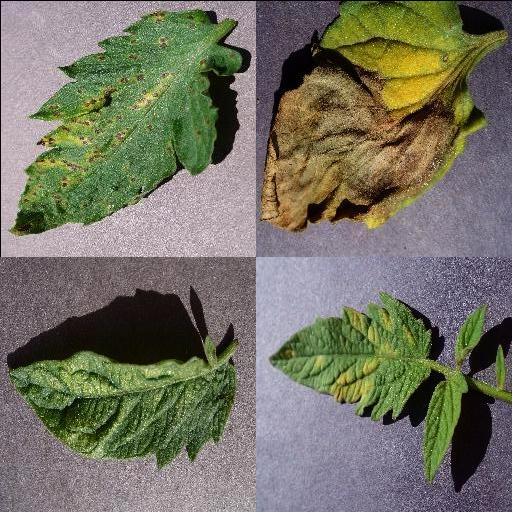Healthy: (422, 378, 466, 480)
Late Blight: (256, 0, 485, 232)
Leaf Mold: (266, 290, 432, 422)
Septoria: (9, 6, 242, 234)
Spider Mites: (8, 334, 238, 468)
